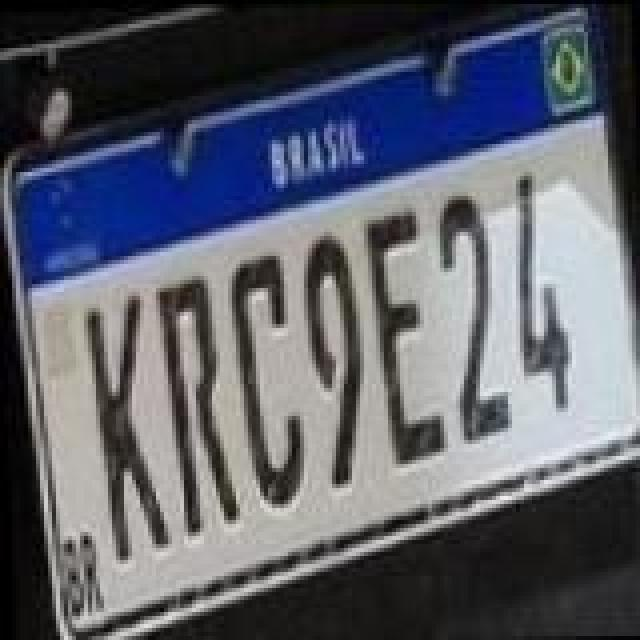2: (436, 188, 512, 444)
4: (510, 172, 574, 412)
9: (298, 228, 366, 488)
C: (230, 246, 306, 514)
E: (360, 202, 444, 470)
K: (82, 286, 170, 566)
R: (154, 272, 238, 540)
